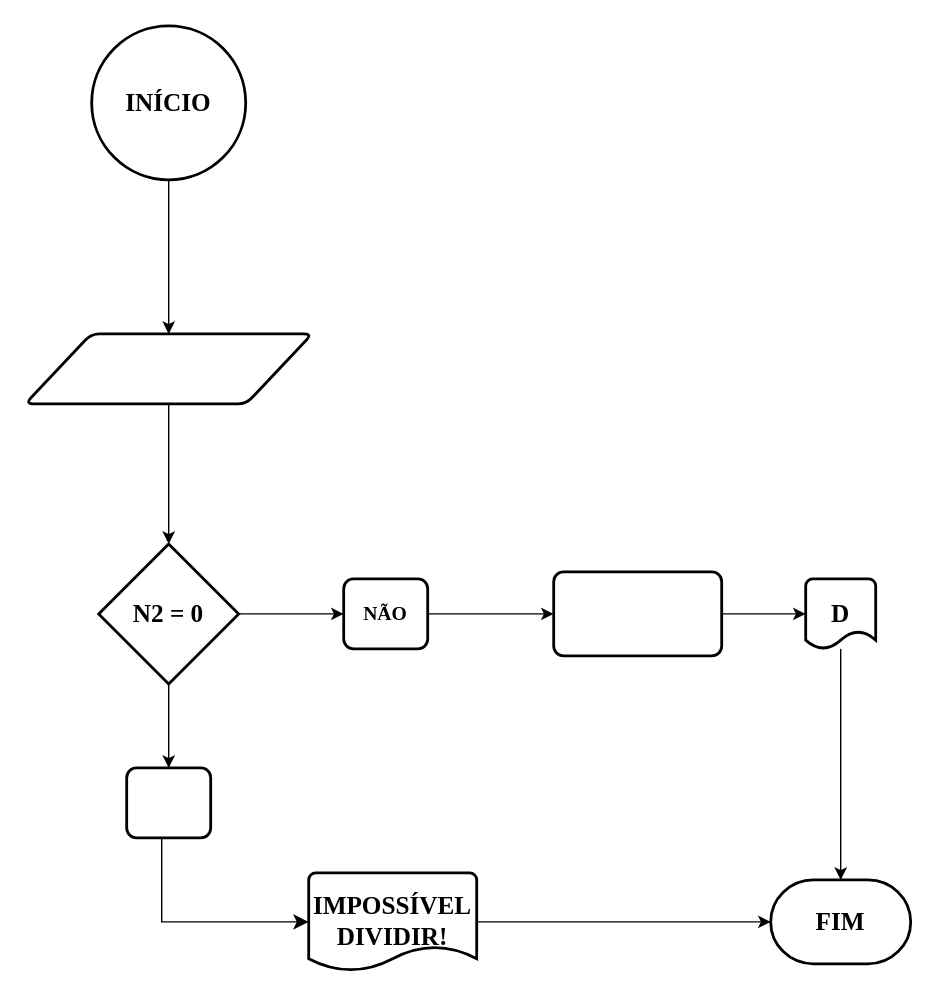
Some shapes in this 937 by 997 pixel diagram are drawn without their labels. Here are the shapes that lost their labels. From the top down, the centre of each, then its label:
point (168, 368): N1, N2
point (637, 613): D = N1 / N2
point (168, 802): SIM
